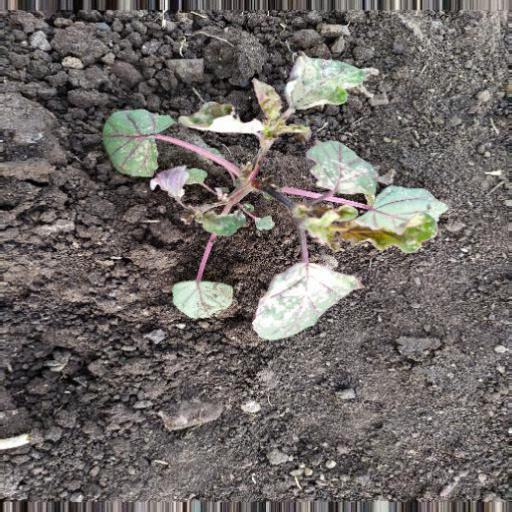weed: (96, 36, 447, 387)
